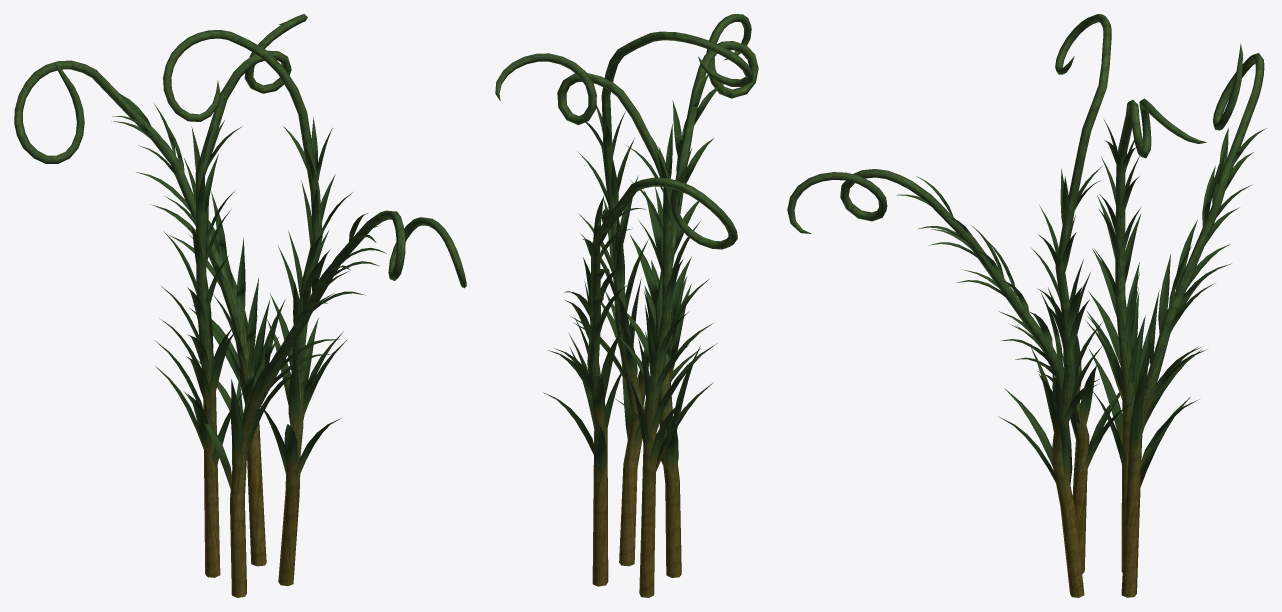
The model's file is Plant7_1_L0.fbx.
3 views of the same model, side by side, from view 1: azimuth 30°, elevation 25°; view 2: azimuth 150°, elevation 25°; view 3: azimuth 270°, elevation 25° (orthographic). The views are drawn at different scales.
Visible parts, largest first — view 1: polySurface11; view 2: polySurface11; view 3: polySurface11.
Part boxes in pixels (x1,y1,x2,y2): polySurface11: [14, 14, 466, 597]; polySurface11: [495, 14, 758, 597]; polySurface11: [787, 14, 1266, 597].
Size of the model in its own units: 111 by 226 by 182.
